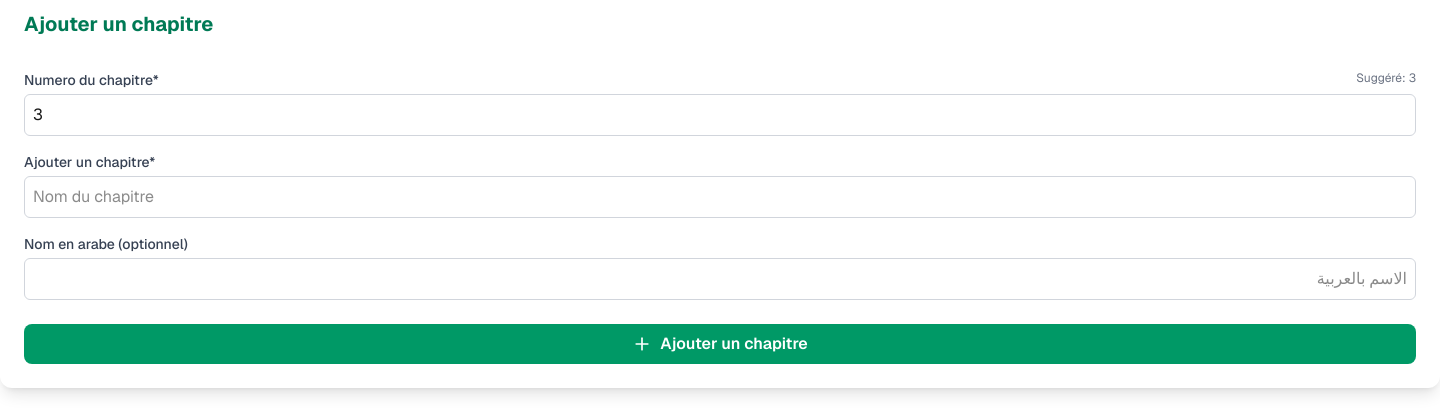
Scenario: AddItemForm › ne soumet pas si le nom est manquant
The width and height of the screenshot is (1440, 414).
Step 1. Click the button "Ajouter un chapitre" → (720, 344), box top-left (24, 324), bottom-right (1416, 364)
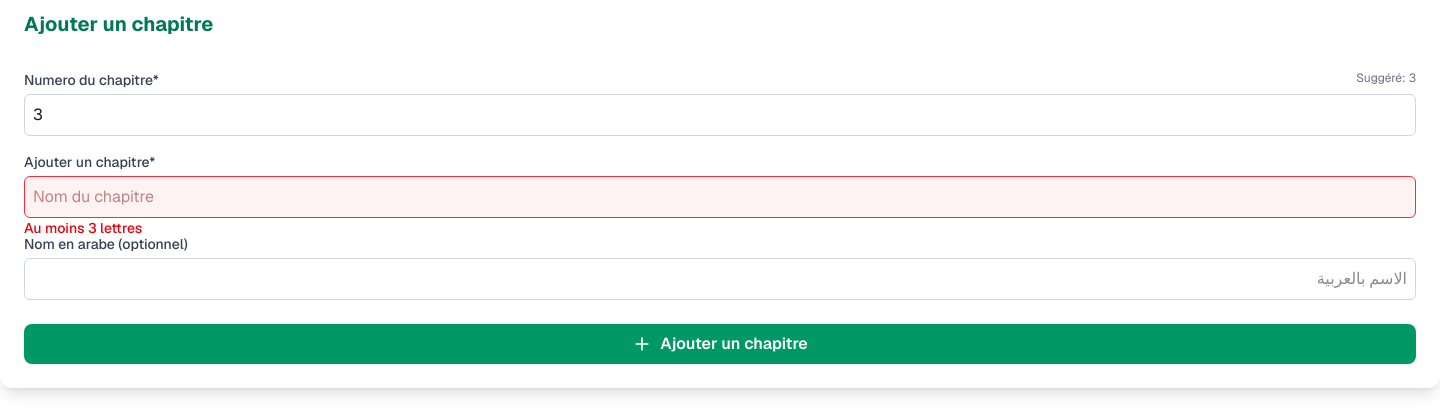
Check: the text "Au moins 3 lettres" is shown, box top-left (24, 218), bottom-right (142, 238)
